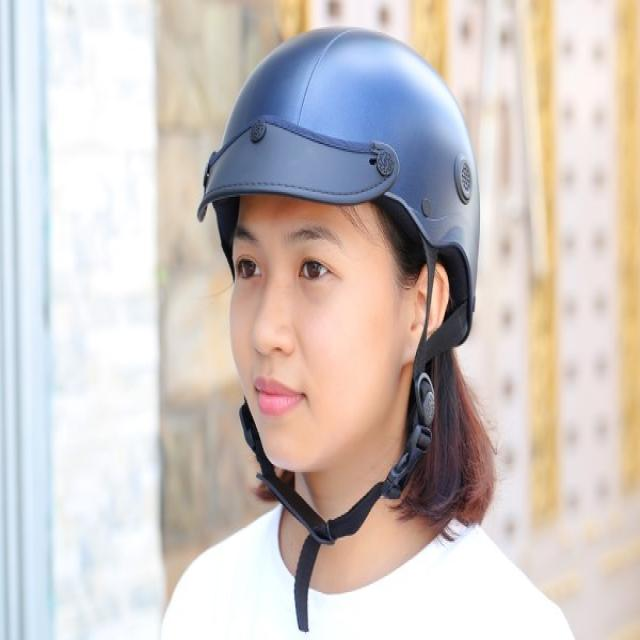helmet: (192, 8, 490, 554)
